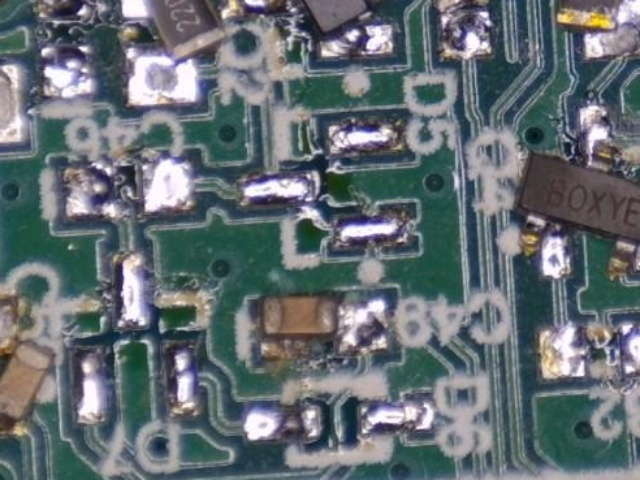pcb_defect: (513, 104, 640, 280), (225, 0, 397, 57), (256, 295, 395, 360), (0, 296, 54, 435), (405, 0, 491, 58), (556, 0, 640, 59)
